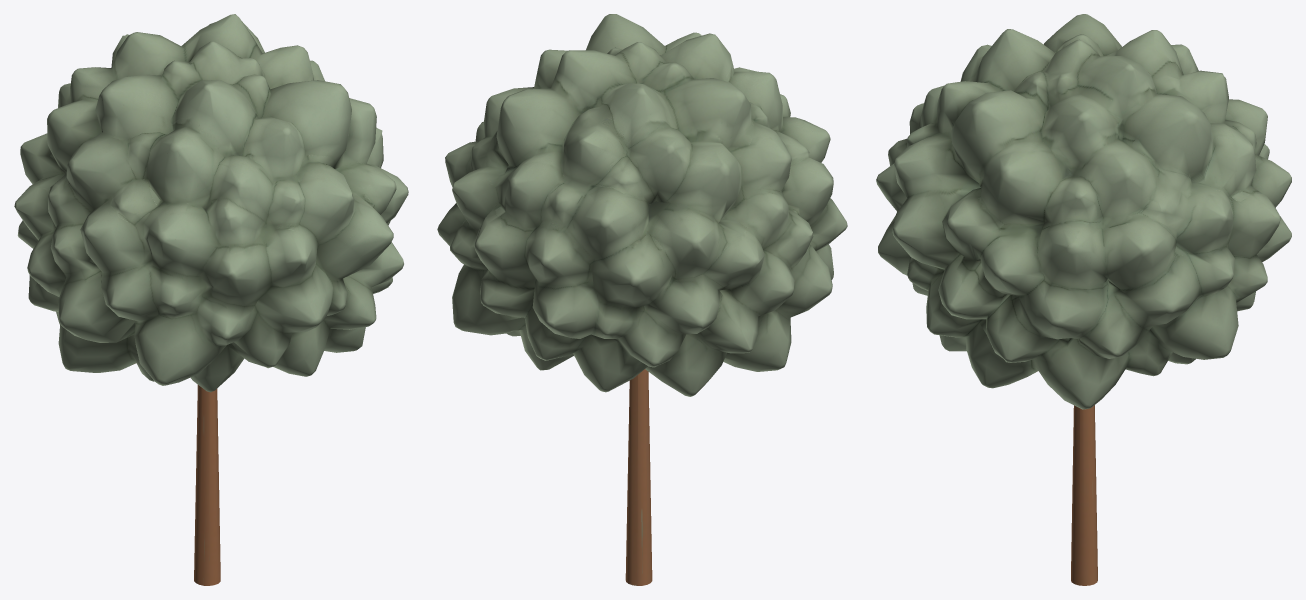
Rendered from tree-round.raw.glb.
3 views of the same model, side by side, from view 1: azimuth 30°, elevation 25°; view 2: azimuth 150°, elevation 25°; view 3: azimuth 270°, elevation 25° (orthographic).
Bounding box in the file's own units: 0.6338 × 0.9521 × 0.6631.
1 material, 1 textured.
